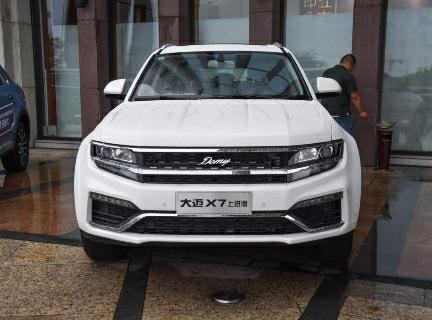众泰-大迈X7: (69, 39, 369, 271)
